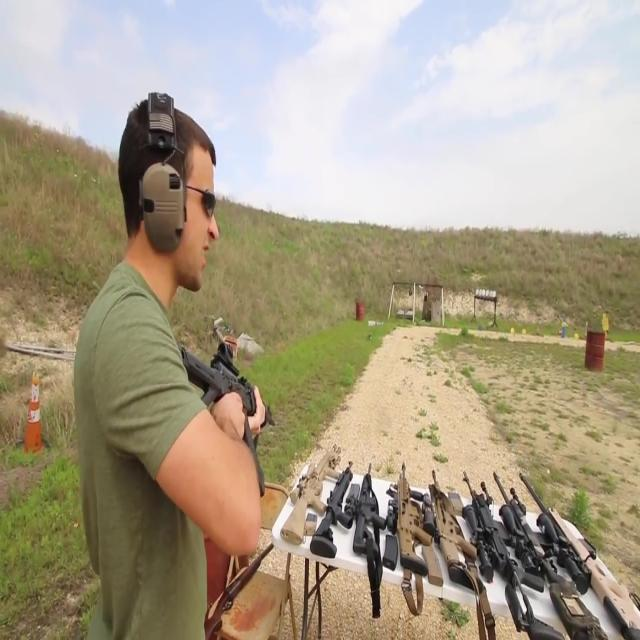Weapon: (280, 434, 640, 640), (111, 286, 298, 520)
